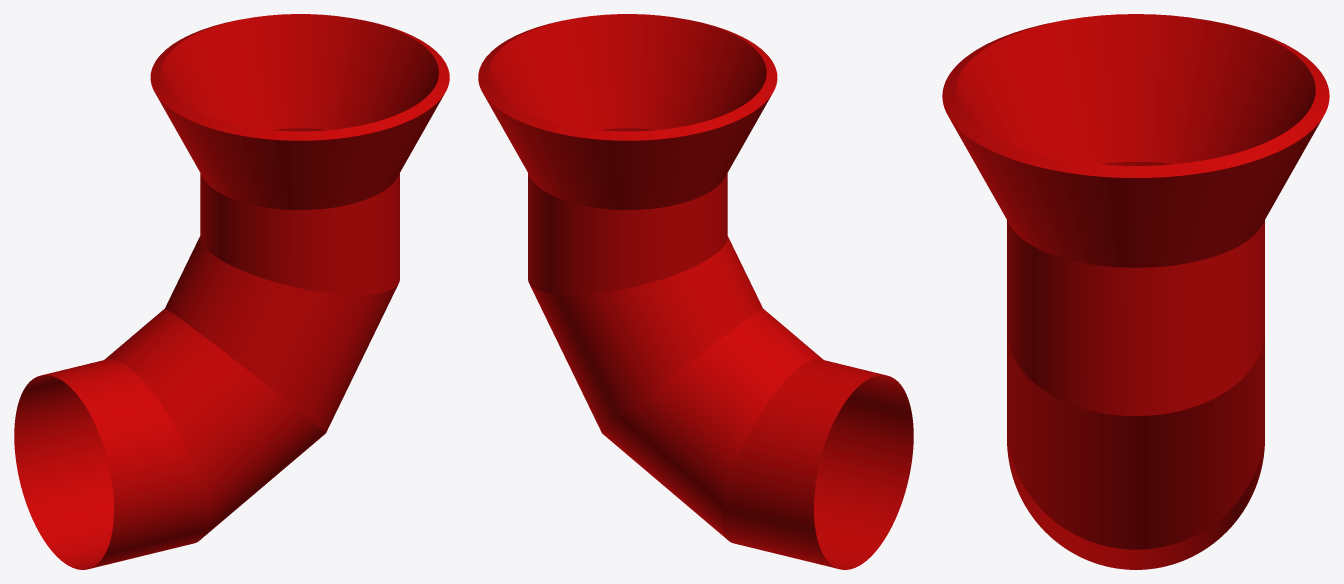
The model's file is red-pipe-double.glb.
The picture shows the model from 3 angles, left to right: view 1: azimuth 30°, elevation 25°; view 2: azimuth 150°, elevation 25°; view 3: azimuth 270°, elevation 25°; orthographic projection. The views are drawn at different scales.
Parts seen in each view (by area): view 1: Elbow_Joint; view 2: Elbow_Joint; view 3: Elbow_Joint.
Boxes of the visible parts, x1,y1,x2,y2 form: Elbow_Joint: (14,14,449,569); Elbow_Joint: (478,14,913,569); Elbow_Joint: (942,14,1329,569).
Bounding box in the file's own units: 4.23 × 4.79 × 3.
